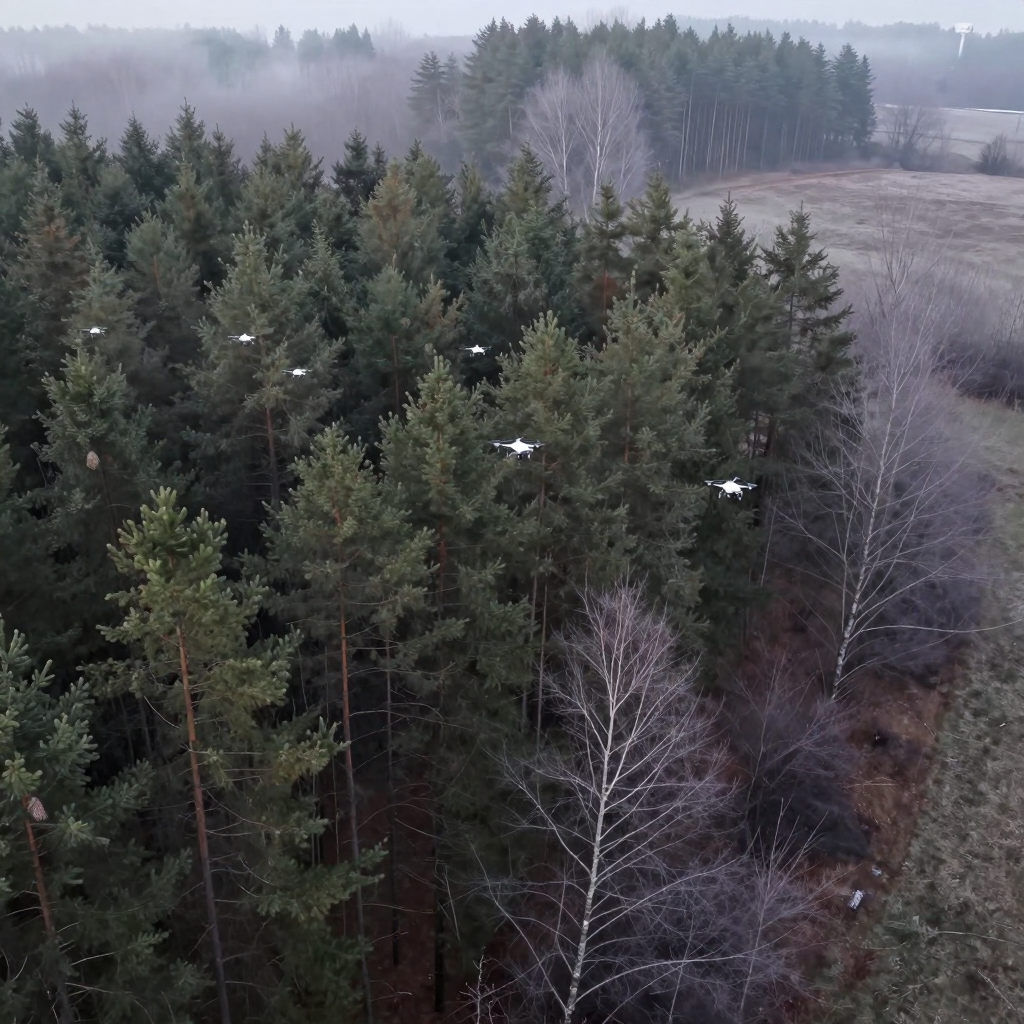drone: (487, 437, 547, 460), (704, 477, 758, 502), (460, 340, 497, 360), (74, 326, 112, 340), (228, 331, 262, 346), (281, 366, 314, 379)
